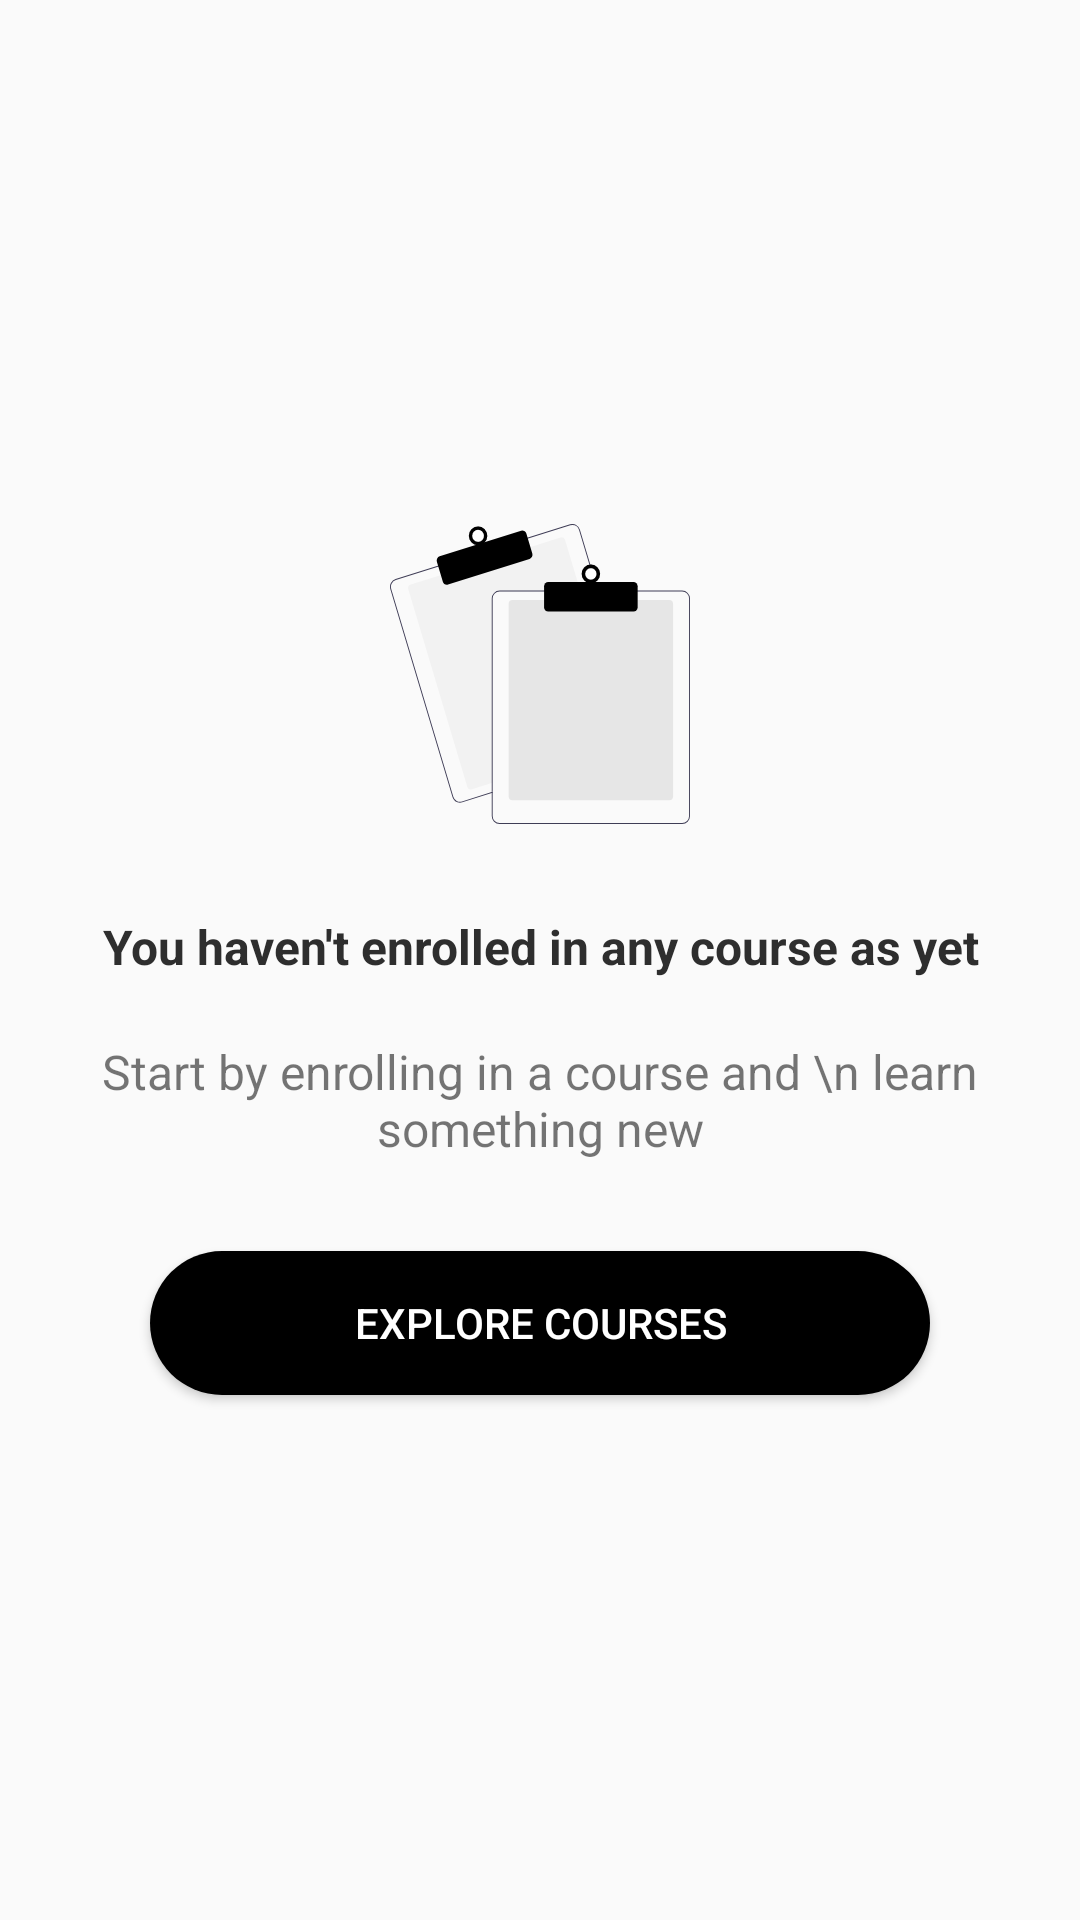

Locate icon controls on the screen. Image size 1080×1920, boxes as {"x1": x1, "y1": y1, "x2": x2, "y2": y2}.
no data: {"x1": 390, "y1": 524, "x2": 690, "y2": 824}
